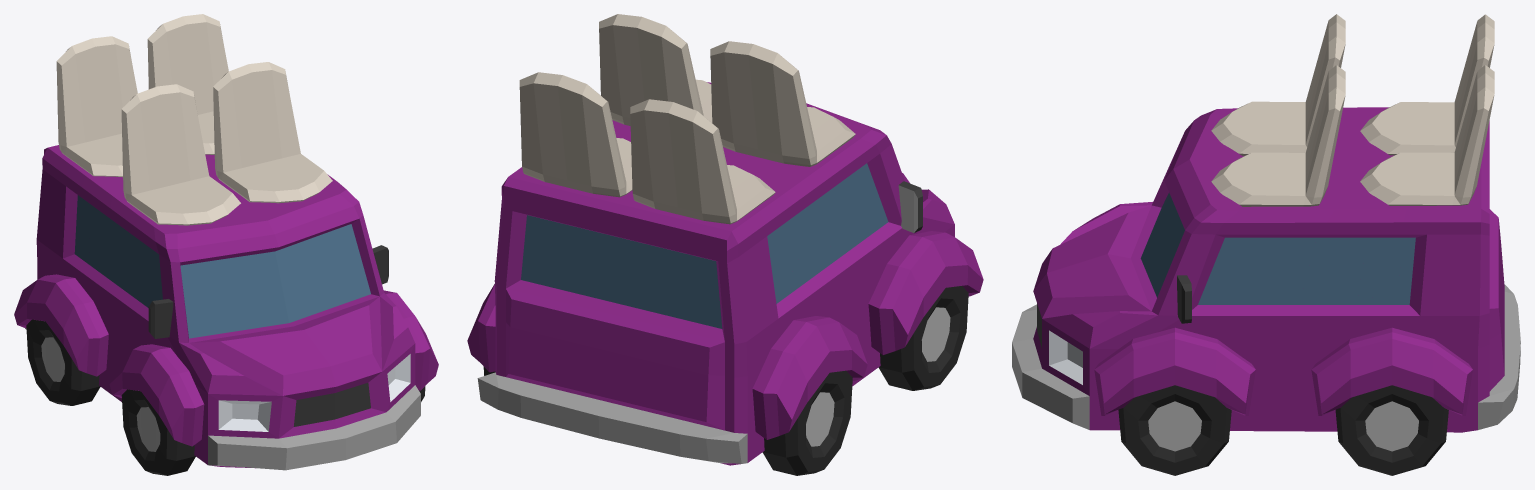
Rendered from Bus_Purple.fbx.
3 renders of one model, left to right at view 1: azimuth 30°, elevation 25°; view 2: azimuth 150°, elevation 25°; view 3: azimuth 270°, elevation 25°, orthographic. The views are drawn at different scales.
Parts seen in each view (by area): view 1: Bus_Purple; view 2: Bus_Purple; view 3: Bus_Purple.
Boxes of the visible parts, x1,y1,x2,y2 form: Bus_Purple: (14,14,438,475); Bus_Purple: (467,14,983,475); Bus_Purple: (1012,14,1520,475).
Bounding box in the file's own units: 483 × 548 × 700.
